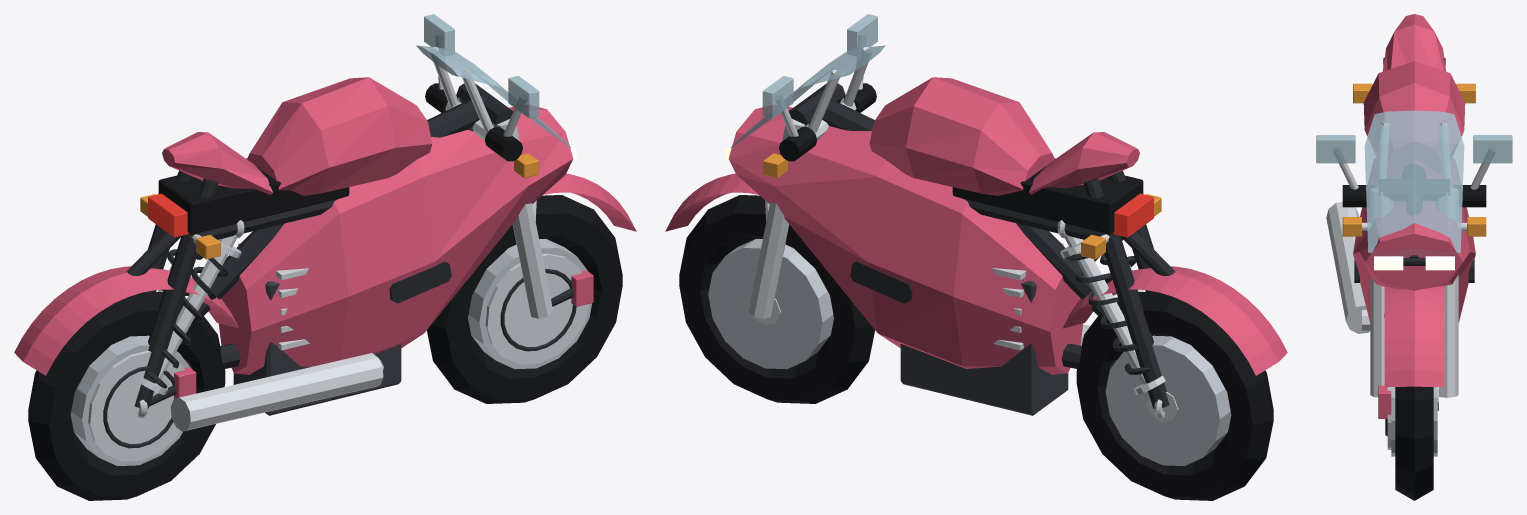
File: sport-bike.glb
The picture shows the model from 3 angles, left to right: view 1: azimuth 30°, elevation 25°; view 2: azimuth 150°, elevation 25°; view 3: azimuth 270°, elevation 25°; orthographic projection. The views are drawn at different scales.
Visible parts, largest first — view 1: Fairing (×2), motorcycle, Rear wheel (×2), Brakes and suspension (×3), Front wheel (×2), Fenders (×2), Sport tail, Mirrors and grips (×2), Windscreen (×2), Signals and tail lamp (×2), Engine fins; view 2: Fairing (×2), motorcycle, Rear wheel (×2), Front wheel (×2), Fenders (×2), Brakes and suspension (×2), Sport tail, Mirrors and grips (×2), Windscreen (×2), Signals and tail lamp (×2), Engine fins; view 3: motorcycle, Windscreen (×2), Fairing (×2), Fenders, Front wheel (×2), Mirrors and grips (×3), Sport tail, Signals and tail lamp, Sport headlamps (×2), Brakes and suspension.
Boxes of the visible parts, x1,y1,x2,y2 form: Fairing (×2): [218, 105, 573, 374]; motorcycle: [134, 77, 553, 431]; Rear wheel (×2): [28, 292, 225, 500]; Brakes and suspension (×3): [88, 220, 593, 461]; Front wheel (×2): [427, 195, 622, 403]; Fenders (×2): [14, 173, 636, 375]; Sport tail: [162, 132, 272, 194]; Mirrors and grips (×2): [424, 14, 539, 161]; Windscreen (×2): [416, 45, 571, 147]; Signals and tail lamp (×2): [140, 153, 538, 259]; Engine fins: [238, 243, 309, 350]; Fairing (×2): [728, 105, 1083, 374]; motorcycle: [748, 77, 1169, 415]; Rear wheel (×2): [1076, 292, 1273, 500]; Front wheel (×2): [679, 195, 874, 403]; Fenders (×2): [665, 173, 1287, 375]; Brakes and suspension (×2): [1057, 220, 1165, 418]; Sport tail: [1029, 132, 1139, 194]; Mirrors and grips (×2): [762, 14, 877, 161]; Windscreen (×2): [730, 45, 885, 147]; Signals and tail lamp (×2): [763, 153, 1161, 259]; Engine fins: [992, 243, 1063, 350]; motorcycle: [1326, 58, 1465, 397]; Windscreen (×2): [1364, 110, 1464, 256]; Fairing (×2): [1353, 158, 1475, 322]; Fenders: [1384, 285, 1444, 387]; Front wheel (×2): [1391, 386, 1437, 500]; Mirrors and grips (×3): [1316, 135, 1512, 207]; Sport tail: [1382, 14, 1446, 71]; Signals and tail lamp: [1342, 83, 1486, 236]; Sport headlamps (×2): [1374, 194, 1454, 270]; Brakes and suspension: [1378, 385, 1391, 418].
Size of the model in its own units: 2.05 by 1.19 by 0.618.
